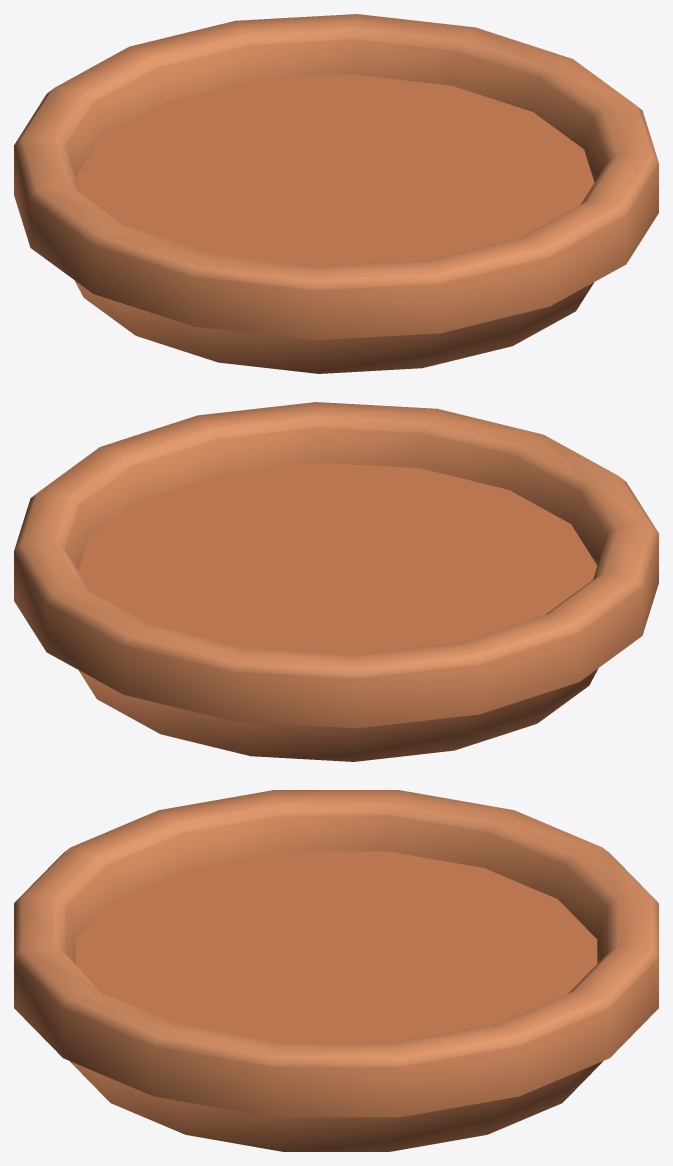
Rendered from Large Saucer.glb.
The picture shows the model from 3 angles, top to bottom: view 1: azimuth 30°, elevation 25°; view 2: azimuth 150°, elevation 25°; view 3: azimuth 270°, elevation 25°; orthographic projection.
Visible parts, largest first — view 1: saucer_A_large; view 2: saucer_A_large; view 3: saucer_A_large.
Boxes of the visible parts, x1,y1,x2,y2 form: saucer_A_large: [14, 14, 658, 373]; saucer_A_large: [14, 402, 658, 761]; saucer_A_large: [14, 790, 658, 1151].
Bounding box in the file's own units: 1.5 × 0.2994 × 1.5.
Materials: 1 (1 with a texture image).
